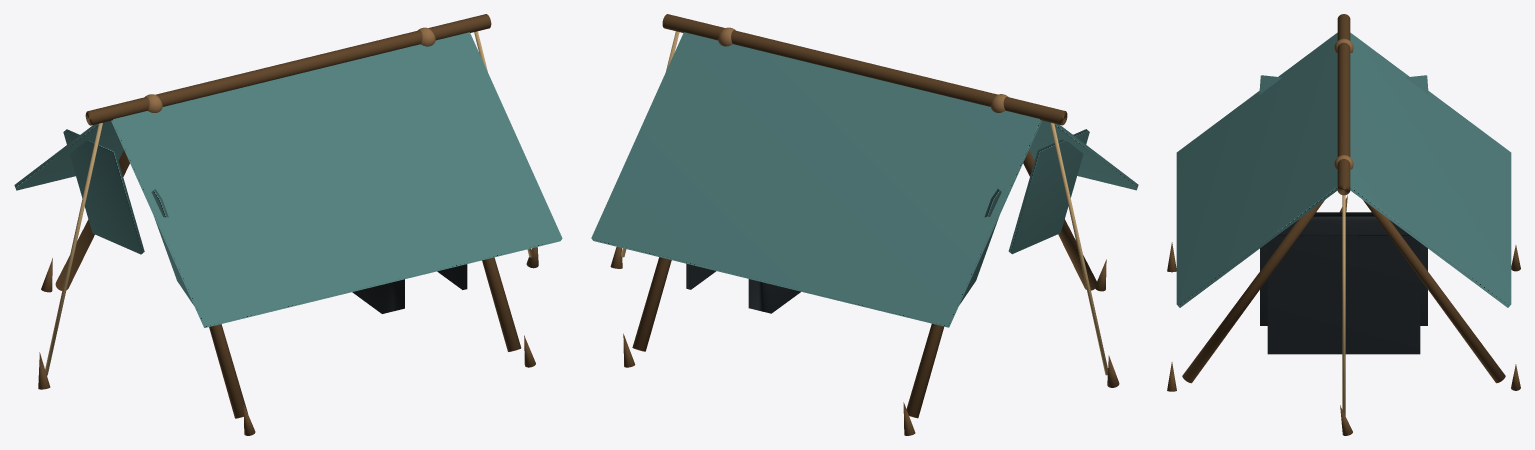
File: 3D模型 props_tent.glb
The picture shows the model from 3 angles, left to right: view 1: azimuth 30°, elevation 25°; view 2: azimuth 150°, elevation 25°; view 3: azimuth 270°, elevation 25°; orthographic projection. The views are drawn at different scales.
Parts seen in each view (by area): view 1: part_canvas_0, part_ridge, part_flap_1, part_canvas_1, part_frame_1_0, part_frame_0_0, part_guy_0, part_inner, part_frame_0_1, part_flap_0; view 2: part_canvas_1, part_ridge, part_flap_0, part_canvas_0, part_frame_1_1, part_frame_0_1, part_inner, part_guy_0, part_frame_0_0, part_flap_1; view 3: part_canvas_0, part_canvas_1, part_back_panel, part_inner, part_frame_1_0, part_frame_1_1, part_ridge, part_guy_1.
Boxes of the visible parts, bbox=[...] form: part_canvas_0: bbox=[111, 32, 562, 327]; part_ridge: bbox=[85, 14, 491, 125]; part_flap_1: bbox=[63, 129, 144, 254]; part_canvas_1: bbox=[14, 121, 123, 190]; part_frame_1_0: bbox=[482, 257, 521, 351]; part_frame_0_0: bbox=[209, 324, 247, 418]; part_guy_0: bbox=[45, 123, 102, 375]; part_inner: bbox=[352, 279, 404, 313]; part_frame_0_1: bbox=[55, 150, 129, 290]; part_flap_0: bbox=[151, 189, 193, 305]; part_canvas_1: bbox=[591, 32, 1041, 327]; part_ridge: bbox=[662, 14, 1067, 125]; part_flap_0: bbox=[1008, 129, 1089, 254]; part_canvas_0: bbox=[1029, 120, 1138, 190]; part_frame_1_1: bbox=[632, 257, 671, 351]; part_frame_0_1: bbox=[906, 323, 943, 418]; part_inner: bbox=[748, 279, 800, 313]; part_guy_0: bbox=[1050, 122, 1107, 375]; part_frame_0_0: bbox=[1023, 150, 1097, 290]; part_flap_1: bbox=[959, 189, 1001, 304]; part_canvas_0: bbox=[1176, 32, 1337, 307]; part_canvas_1: bbox=[1350, 32, 1511, 307]; part_back_panel: bbox=[1267, 234, 1420, 354]; part_inner: bbox=[1260, 212, 1427, 325]; part_frame_1_0: bbox=[1182, 200, 1324, 383]; part_frame_1_1: bbox=[1363, 200, 1505, 383]; part_ridge: bbox=[1337, 14, 1350, 195]; part_guy_1: bbox=[1342, 195, 1345, 415].
Size of the model in its own units: 2.66 by 1.34 by 1.85.
